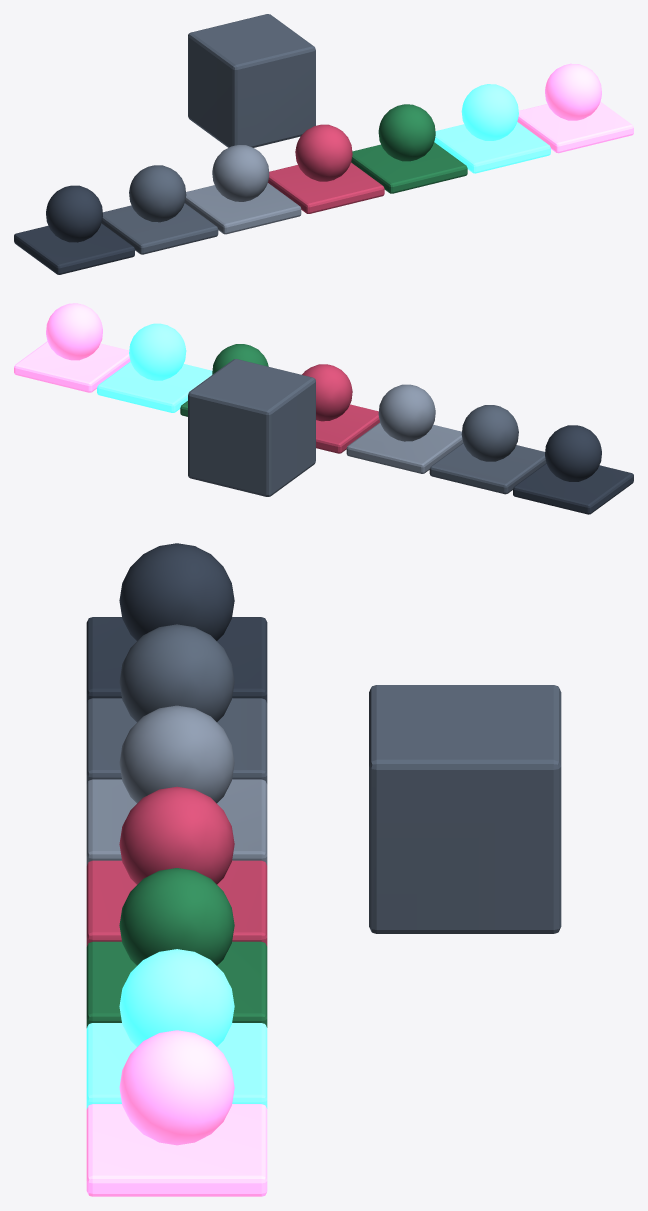
File: material_swatches.glb
The picture shows the model from 3 angles, top to bottom: view 1: azimuth 30°, elevation 25°; view 2: azimuth 150°, elevation 25°; view 3: azimuth 270°, elevation 25°; orthographic projection. The views are drawn at different scales.
Parts seen in each view (by area): view 1: Unit, Swatches_rock, Swatches_algae, Swatches_coral, Swatches_stone, Swatches_glow, Swatches_metal, Swatches_glow_pink; view 2: Unit, Swatches_rock, Swatches_glow_pink, Swatches_metal, Swatches_stone, Swatches_glow, Swatches_coral, Swatches_algae; view 3: Unit, Swatches_glow_pink, Swatches_metal, Swatches_algae, Swatches_coral, Swatches_stone, Swatches_rock, Swatches_glow.
Part boxes in pixels (<box>): Unit: <box>188,14,315,147</box>; Swatches_rock: <box>14,185,134,274</box>; Swatches_algae: <box>351,104,467,193</box>; Swatches_coral: <box>268,124,384,213</box>; Swatches_stone: <box>101,165,218,254</box>; Swatches_glow: <box>434,84,550,173</box>; Swatches_metal: <box>185,145,301,234</box>; Swatches_glow_pink: <box>517,63,633,153</box>; Unit: <box>188,359,315,496</box>; Swatches_rock: <box>513,425,633,514</box>; Swatches_glow_pink: <box>14,303,130,392</box>; Swatches_metal: <box>346,384,463,473</box>; Swatches_stone: <box>429,405,546,494</box>; Swatches_glow: <box>97,323,212,412</box>; Swatches_coral: <box>302,364,379,453</box>; Swatches_algae: <box>180,344,268,416</box>; Unit: <box>369,685,561,933</box>; Swatches_glow_pink: <box>86,1030,267,1196</box>; Swatches_metal: <box>86,705,267,865</box>; Swatches_algae: <box>86,868,267,1027</box>; Swatches_coral: <box>86,786,267,946</box>; Swatches_stone: <box>86,624,267,784</box>; Swatches_rock: <box>86,543,267,703</box>; Swatches_glow: <box>86,949,267,1108</box>.
Size of the model in its own units: 6.94 by 1.12 by 2.47.
